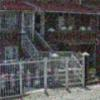stairs: (54, 68, 87, 92)
